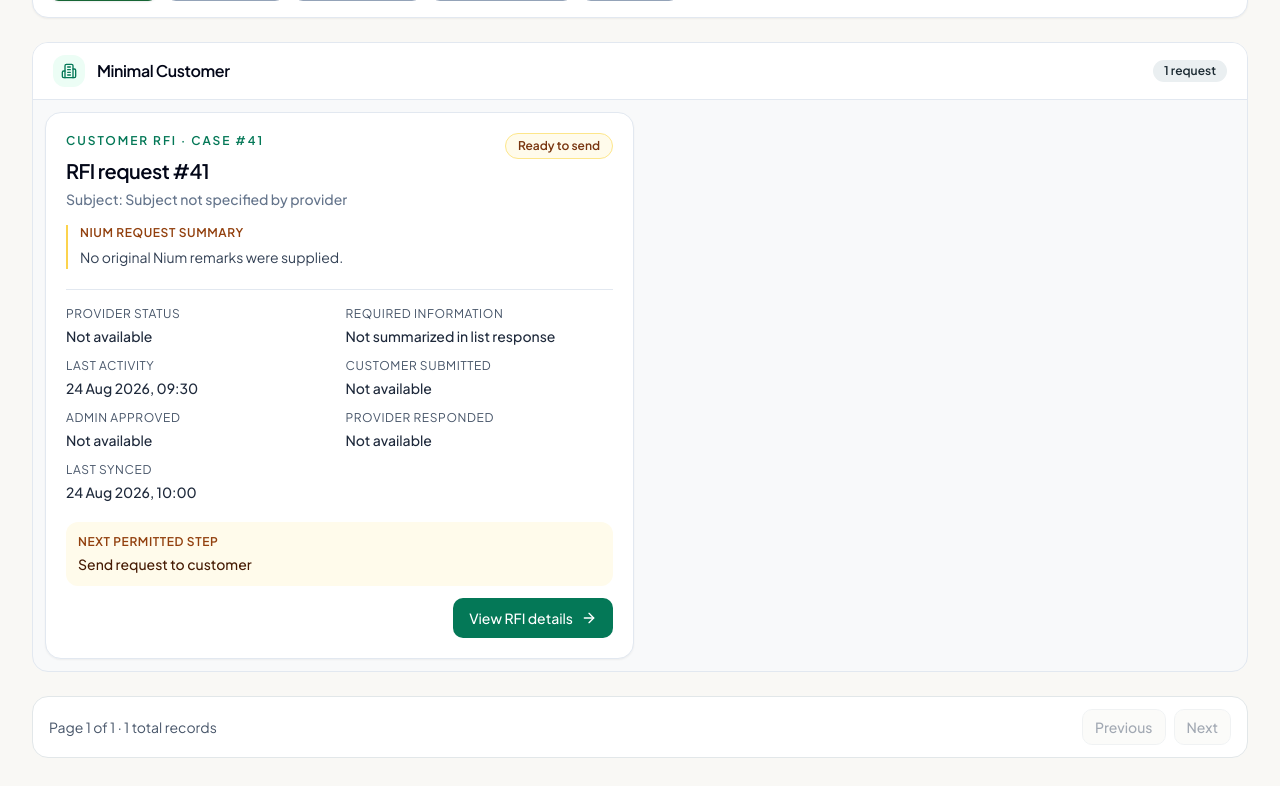
Test: handles missing optional detail fields without inventing requirements
The width and height of the screenshot is (1280, 786).
(page scrolled)
Click the button "View RFI details".
click(533, 618)  # box x1=453 y1=598 x2=613 y2=638
(page scrolled)
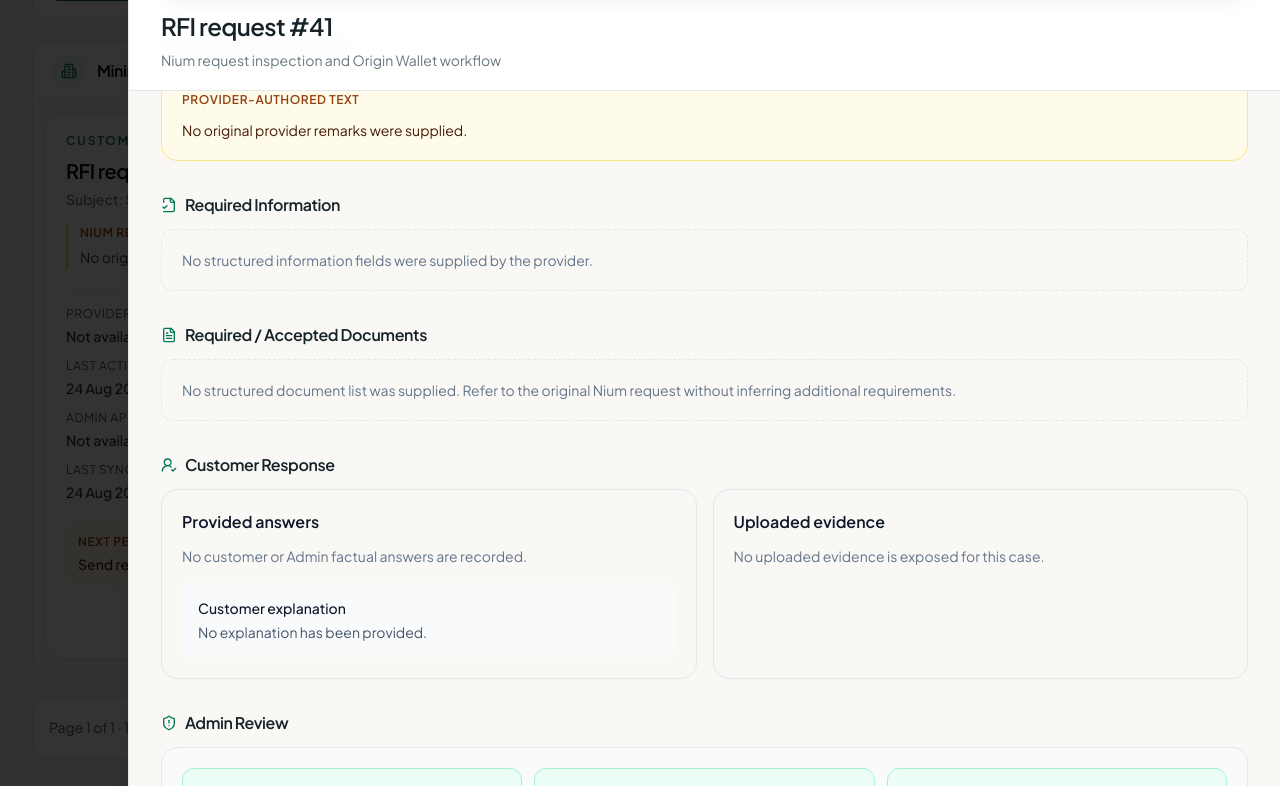
expect the text "No original provider remarks were supplied." is shown: met, box x1=182 y1=121 x2=467 y2=139
expect the text "No structured information fields were supplied by the provider." is shown: met, box x1=161 y1=229 x2=1248 y2=291
expect the text "without inferring additional requirements" is shown: met, box x1=182 y1=381 x2=956 y2=399
